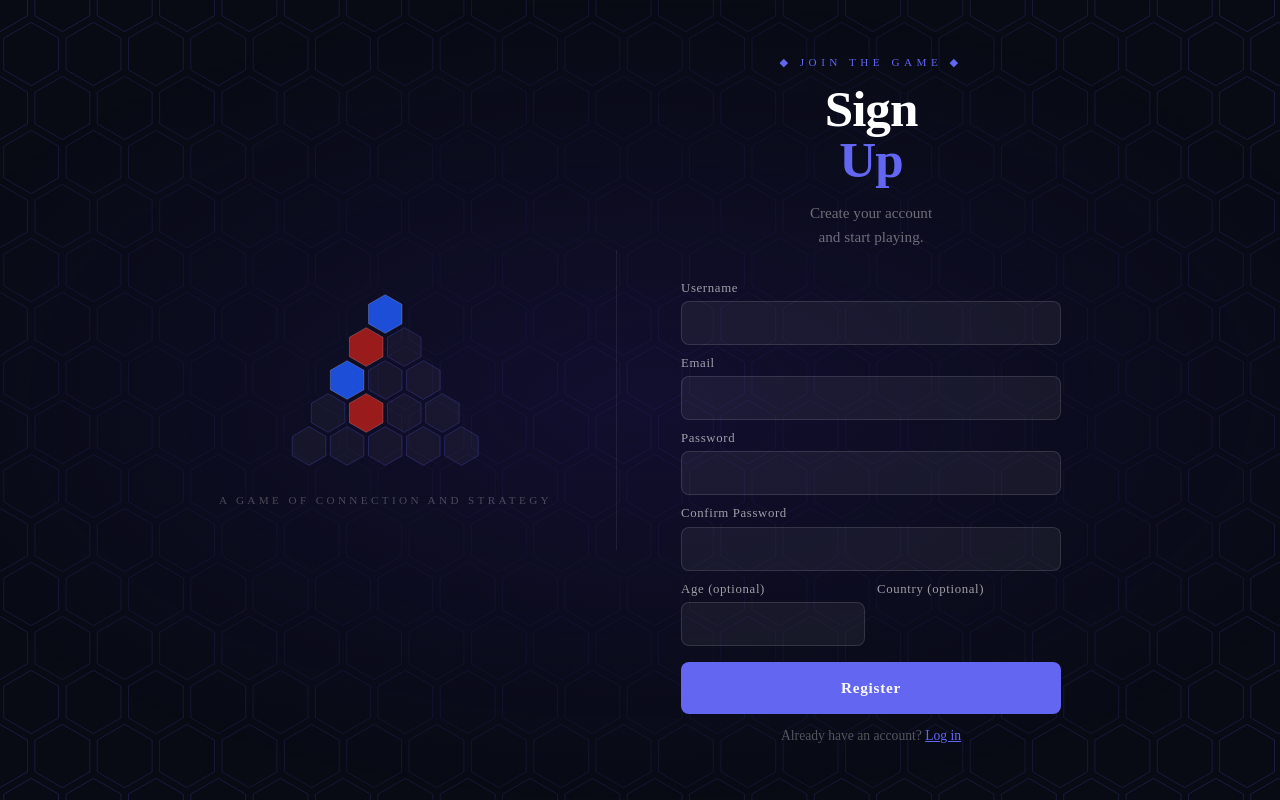
Test: RegisterForm › shows validation error when username is empty
Click the button "Register" at (871, 688), box [681, 662, 1061, 714]
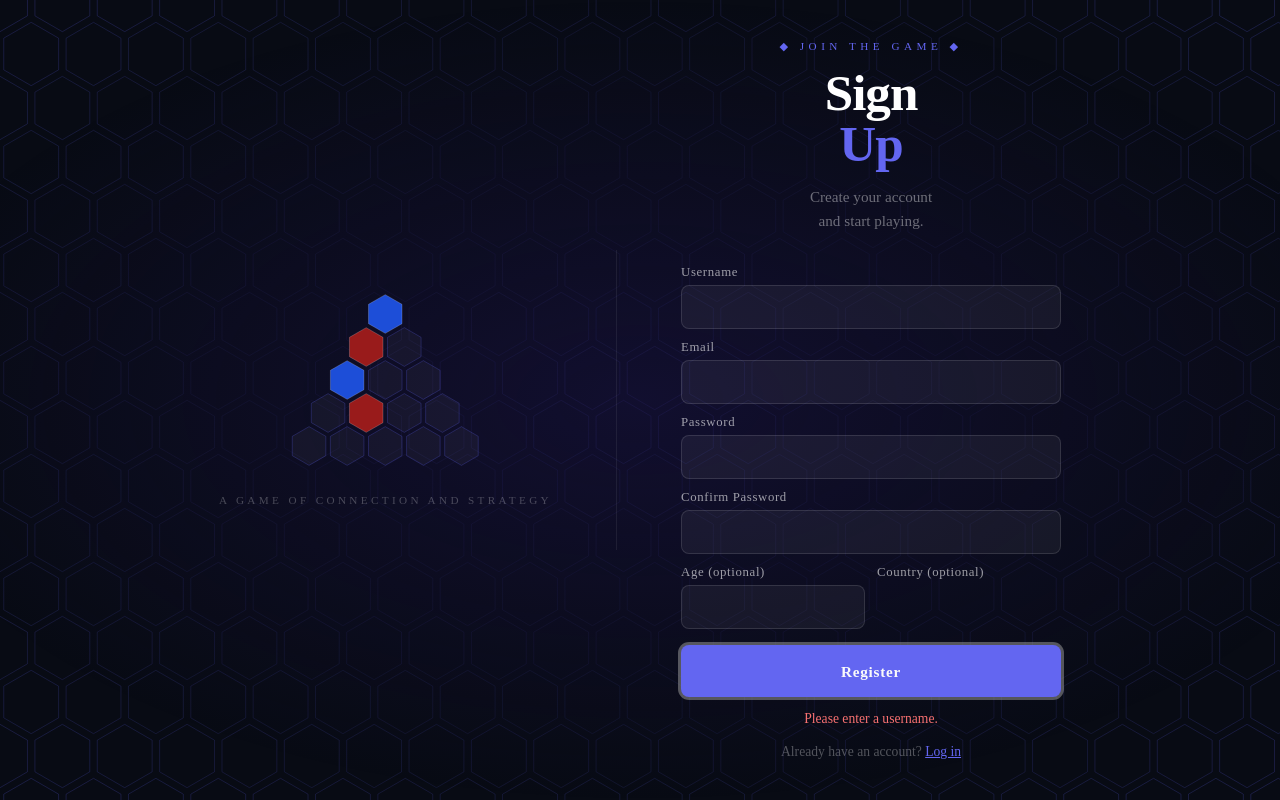
Now the text "Please enter a username." is shown, box [804, 712, 938, 726]
